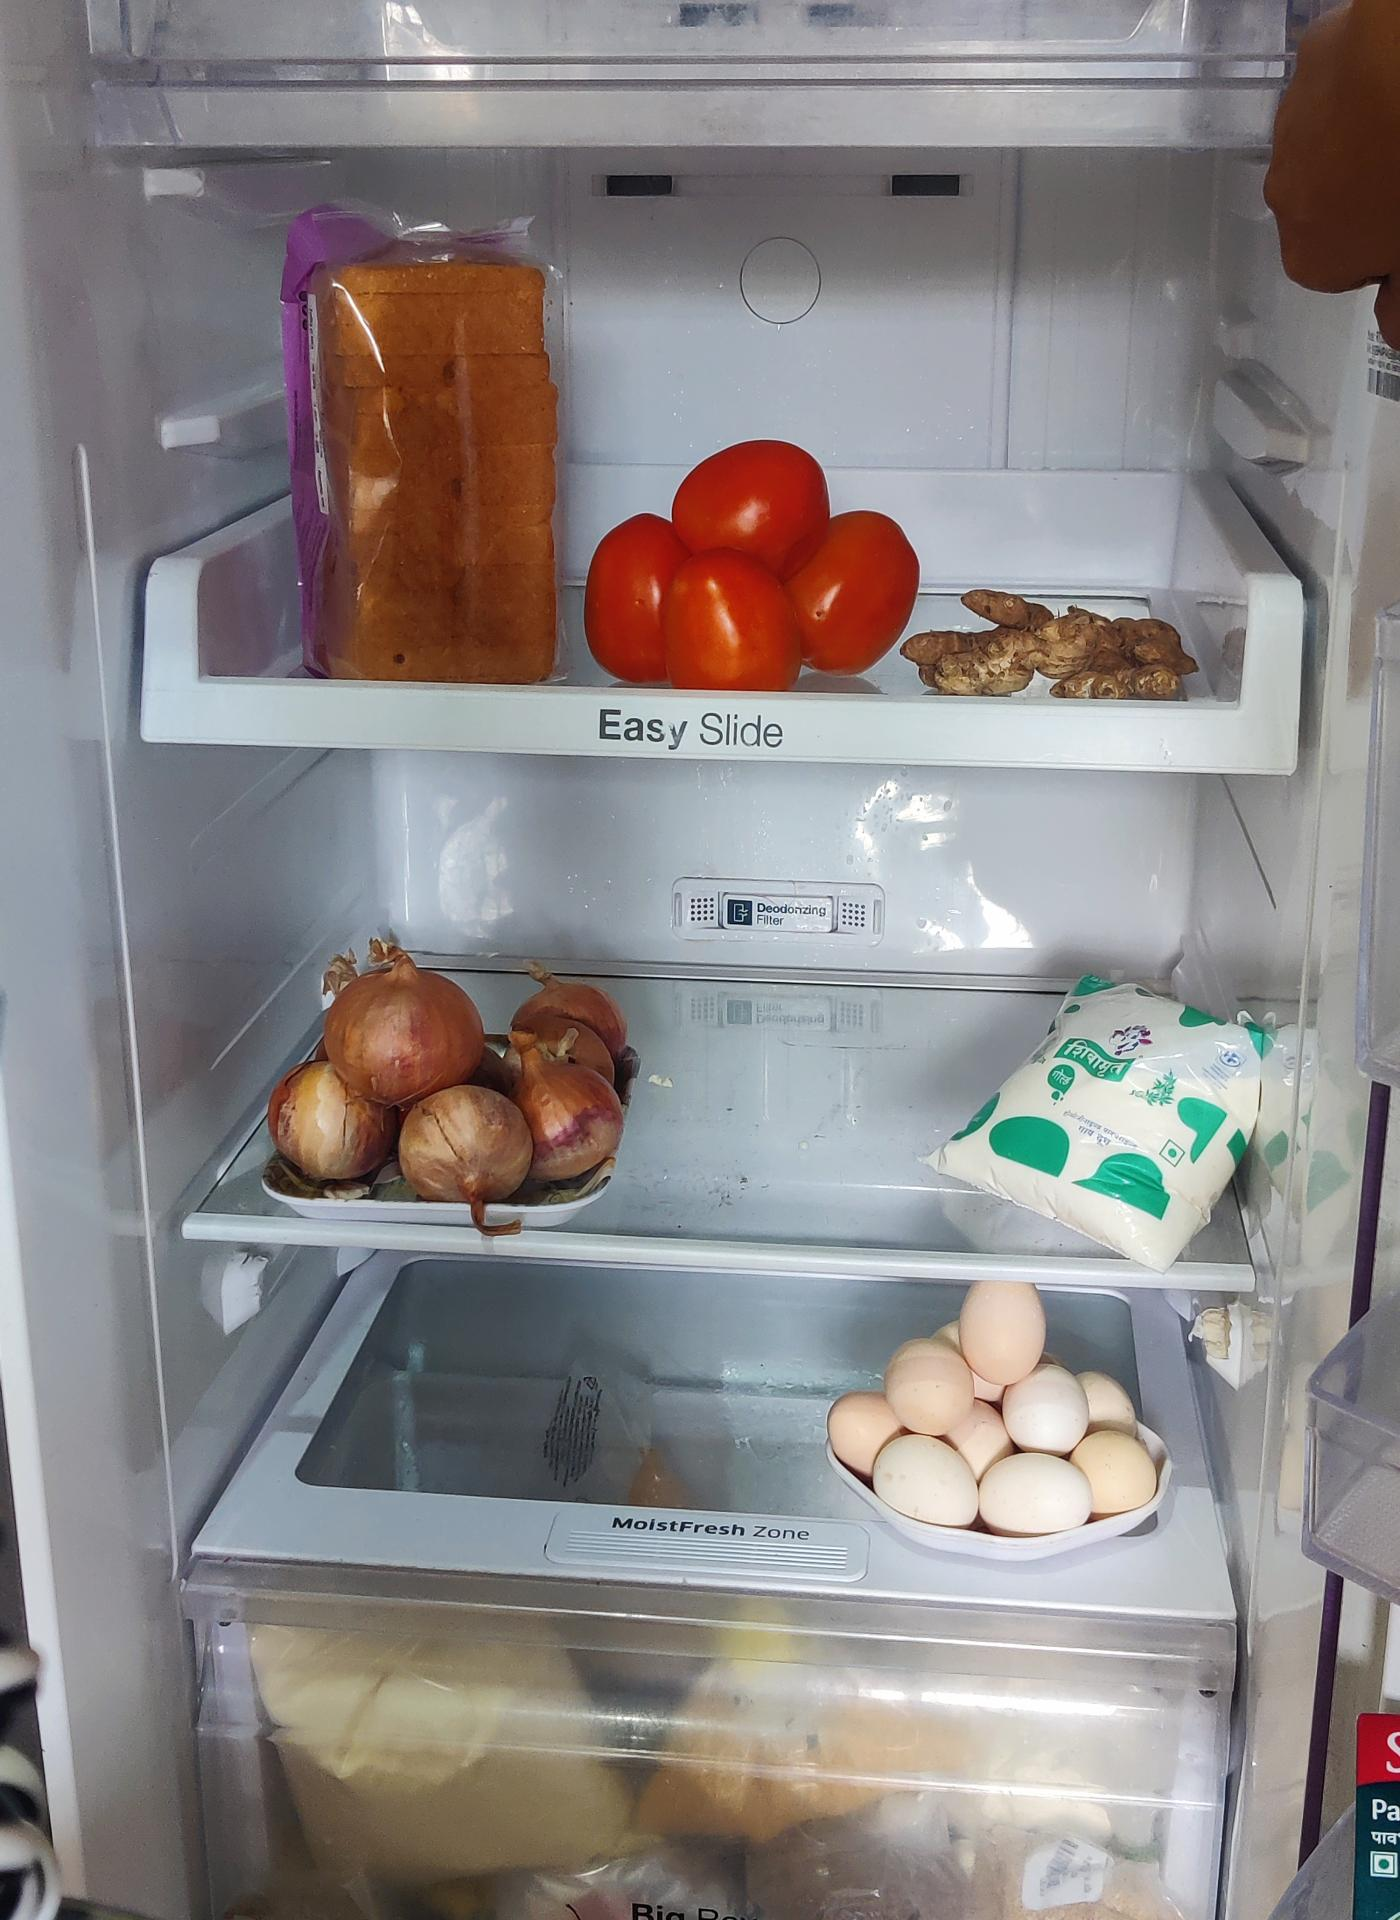bread: (283, 203, 576, 682)
egg: (824, 1271, 1160, 1522)
ginger: (908, 582, 1206, 698)
milk: (936, 966, 1264, 1254)
onion: (265, 936, 636, 1202)
tomato: (590, 442, 922, 698)
